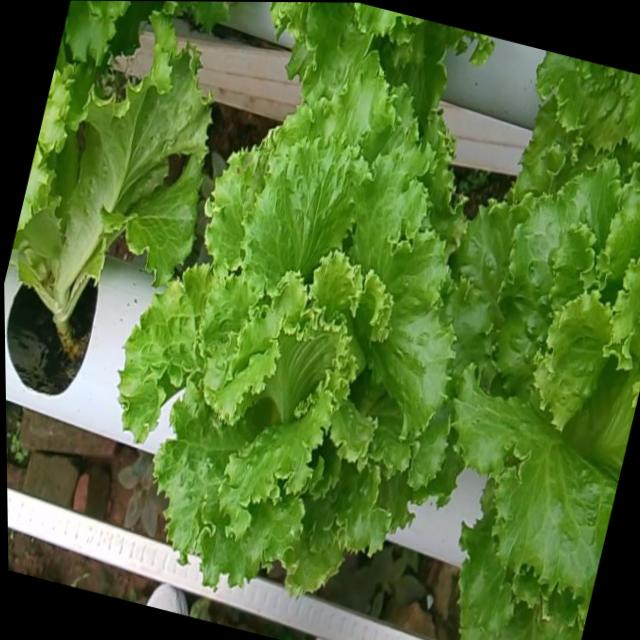Mature: (123, 88, 471, 607), (454, 172, 640, 617)
